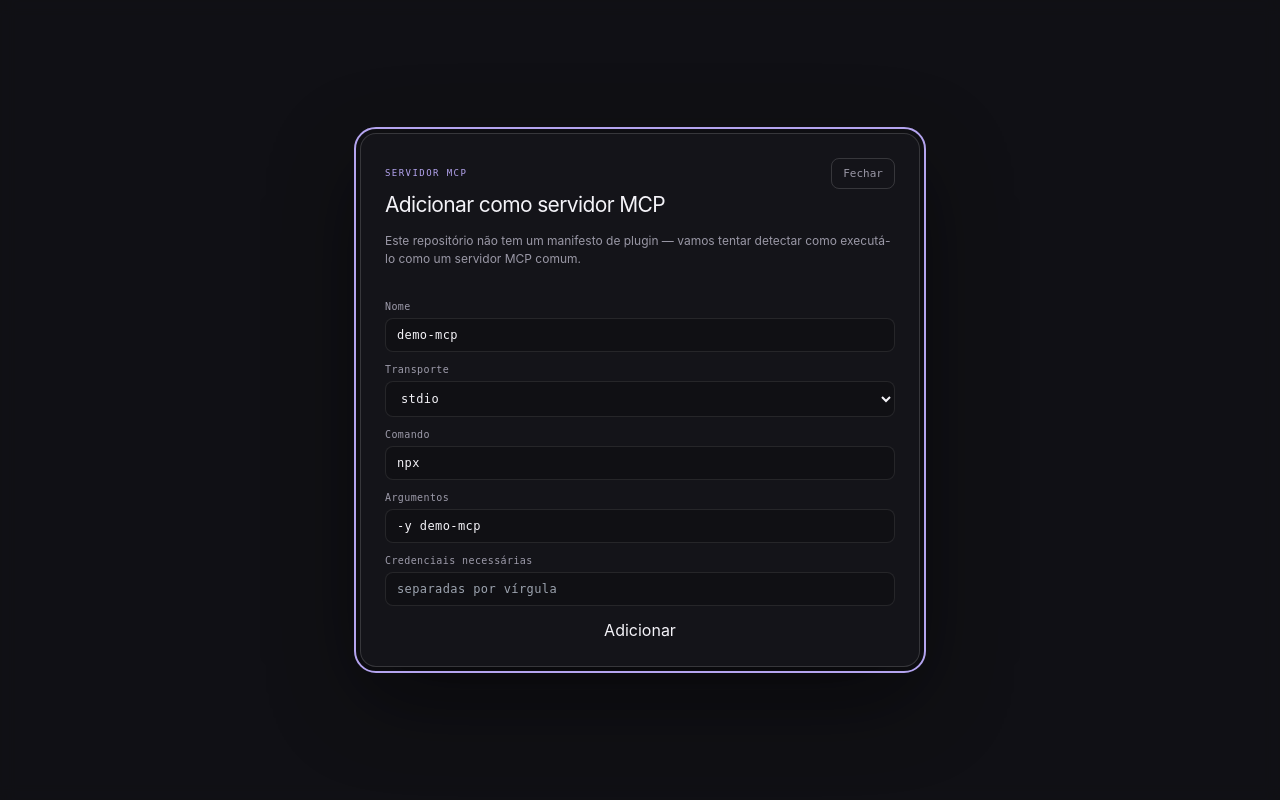
McpFromRepoDialog › submits the (possibly edited) guess and shows the approval card
The image size is (1280, 800).
Check: the field showing "demo-mcp" is shown, box top-left (385, 318), bottom-right (895, 352)
Click the button "Adicionar" at (640, 630), box top-left (385, 618), bottom-right (895, 642)
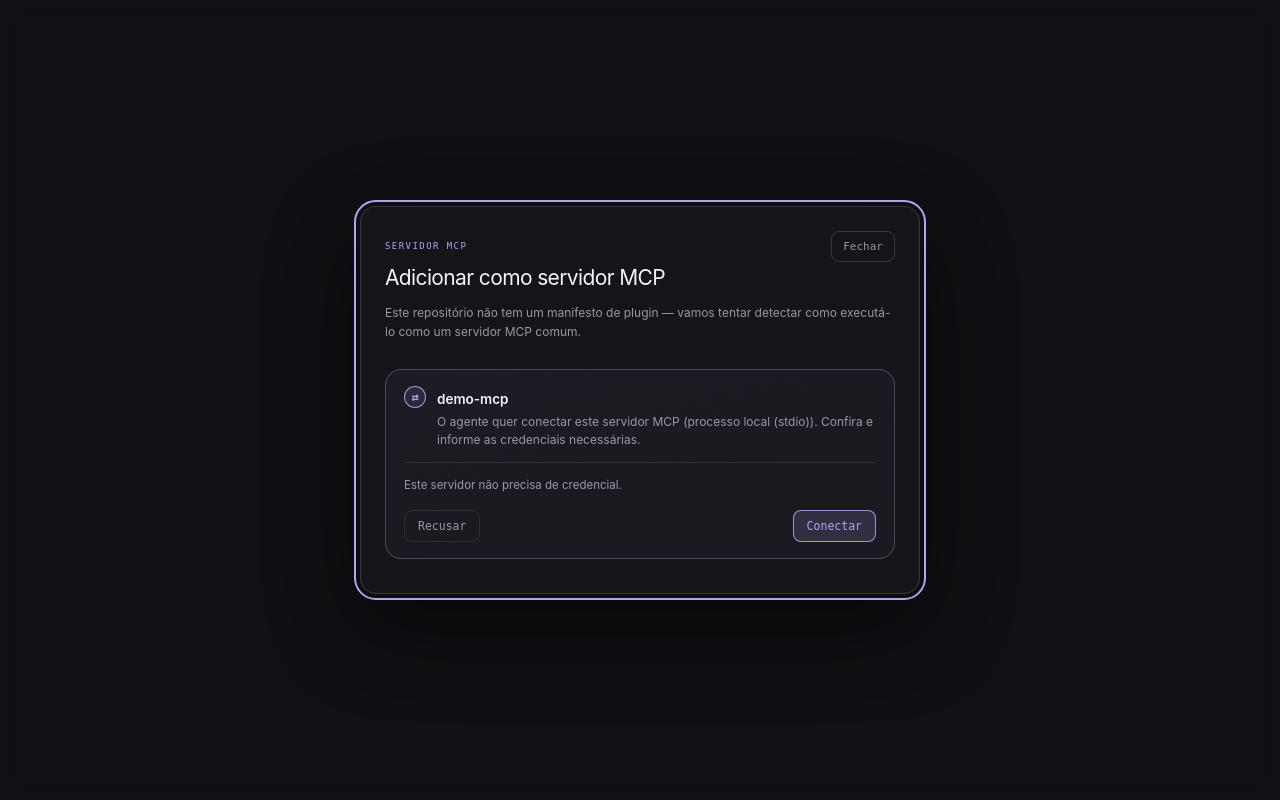
Check: the button "Conectar" is shown, box top-left (793, 510), bottom-right (876, 542)
